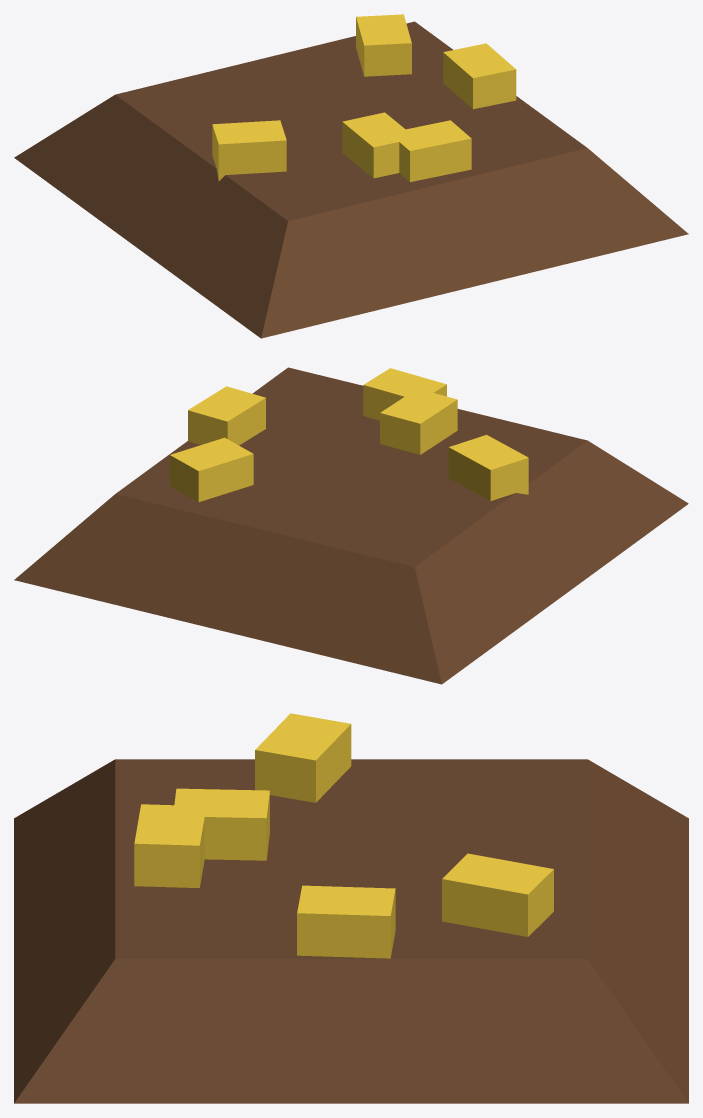
The model's file is corn_0.obj.
3 renders of one model, top to bottom at view 1: azimuth 30°, elevation 25°; view 2: azimuth 150°, elevation 25°; view 3: azimuth 270°, elevation 25°, orthographic. The views are drawn at different scales.
Parts seen in each view (by area): view 1: plant; view 2: plant; view 3: plant.
Boxes of the visible parts, x1,y1,x2,y2 form: plant: (14,14,688,338); plant: (14,367,688,684); plant: (14,713,688,1103).
Bounding box in the file's own units: 0.36 × 0.085 × 0.36.
